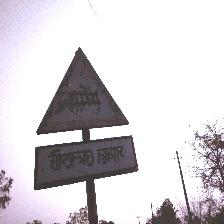Rail-crossing: (34, 47, 135, 188)
